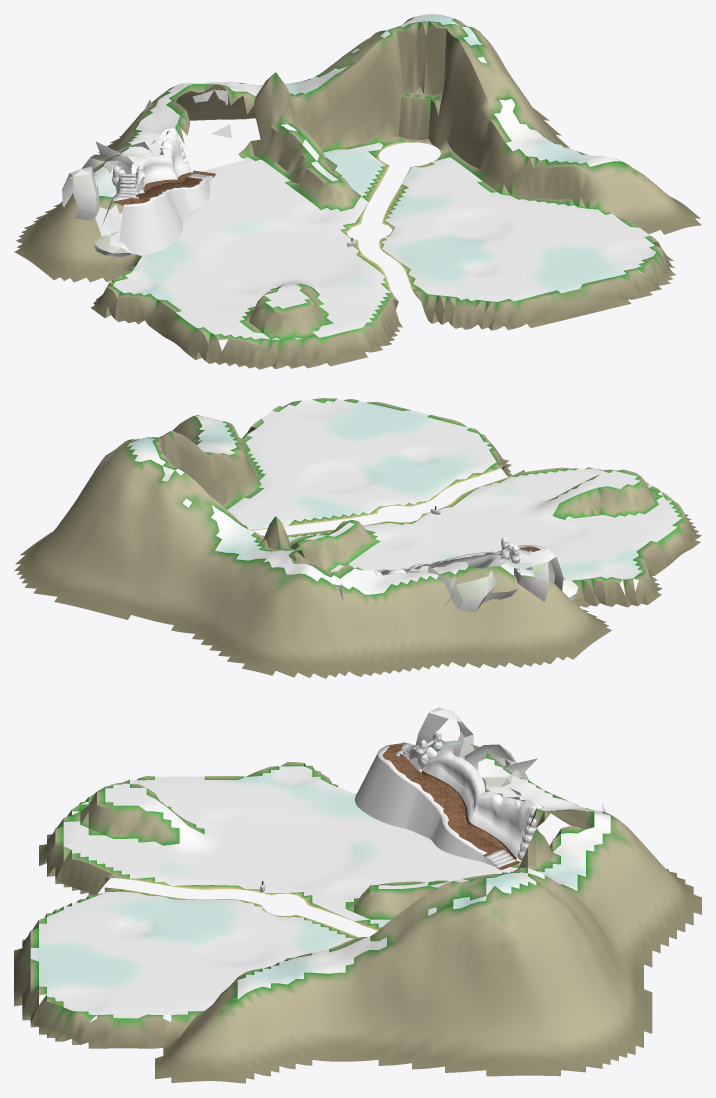
The model's file is world-finish-path.fbx.
The picture shows the model from 3 angles, top to bottom: view 1: azimuth 30°, elevation 25°; view 2: azimuth 150°, elevation 25°; view 3: azimuth 270°, elevation 25°; orthographic projection. The views are drawn at different scales.
Visible parts, largest first — view 1: W7_CD_Ground__ground, W7_CD_Ground__grass, W7_F_PathWall__cliff_rock, W7_F_PathOverRocks__cliff_rock_1718, W7_F_Path__dirt_path, W7_F_PathOverRocks__cliff_rock_1817, W7_F_PathOverRocks__cliff_rock_1717, W7_F_PathSkin__cliff_rock, W7_F_PathSteps__boulder_rock; view 2: W7_CD_Ground__ground, W7_CD_Ground__grass, W7_F_PathOverRocks__cliff_rock_1717, W7_F_PathWall__cliff_rock, W7_F_PathOverRocks__cliff_rock_1718, W7_F_PathOverRocks__cliff_rock_1817; view 3: W7_CD_Ground__ground, W7_CD_Ground__grass, W7_F_PathWall__cliff_rock, W7_F_Path__dirt_path, W7_F_PathOverRocks__cliff_rock_1717, W7_F_PathRocks__cliff_rock, W7_F_PathOverRocks__cliff_rock_1817, W7_F_PathGrass__grass, W7_F_PathFoot__dirt_path.
Boxes of the visible parts, x1,y1,x2,y2 form: W7_CD_Ground__ground: [14, 17, 701, 369]; W7_CD_Ground__grass: [94, 14, 655, 339]; W7_F_PathWall__cliff_rock: [103, 128, 212, 255]; W7_F_PathOverRocks__cliff_rock_1718: [73, 167, 135, 257]; W7_F_Path__dirt_path: [113, 170, 215, 206]; W7_F_PathOverRocks__cliff_rock_1817: [95, 139, 155, 190]; W7_F_PathOverRocks__cliff_rock_1717: [62, 154, 127, 207]; W7_F_PathSkin__cliff_rock: [95, 204, 122, 236]; W7_F_PathSteps__boulder_rock: [112, 173, 212, 203]; W7_CD_Ground__ground: [14, 398, 701, 678]; W7_CD_Ground__grass: [127, 399, 682, 594]; W7_F_PathOverRocks__cliff_rock_1717: [456, 558, 549, 612]; W7_F_PathWall__cliff_rock: [377, 551, 565, 580]; W7_F_PathOverRocks__cliff_rock_1718: [548, 556, 578, 600]; W7_F_PathOverRocks__cliff_rock_1817: [406, 560, 463, 609]; W7_CD_Ground__ground: [14, 744, 701, 1083]; W7_CD_Ground__grass: [30, 740, 610, 1018]; W7_F_PathWall__cliff_rock: [355, 745, 536, 867]; W7_F_Path__dirt_path: [377, 743, 520, 869]; W7_F_PathOverRocks__cliff_rock_1717: [441, 714, 516, 791]; W7_F_PathRocks__cliff_rock: [407, 731, 538, 860]; W7_F_PathOverRocks__cliff_rock_1817: [482, 758, 537, 803]; W7_F_PathGrass__grass: [377, 745, 486, 854]; W7_F_PathFoot__dirt_path: [421, 770, 516, 859].
Bounding box in the file's own units: 26100 × 5565 × 24900.
